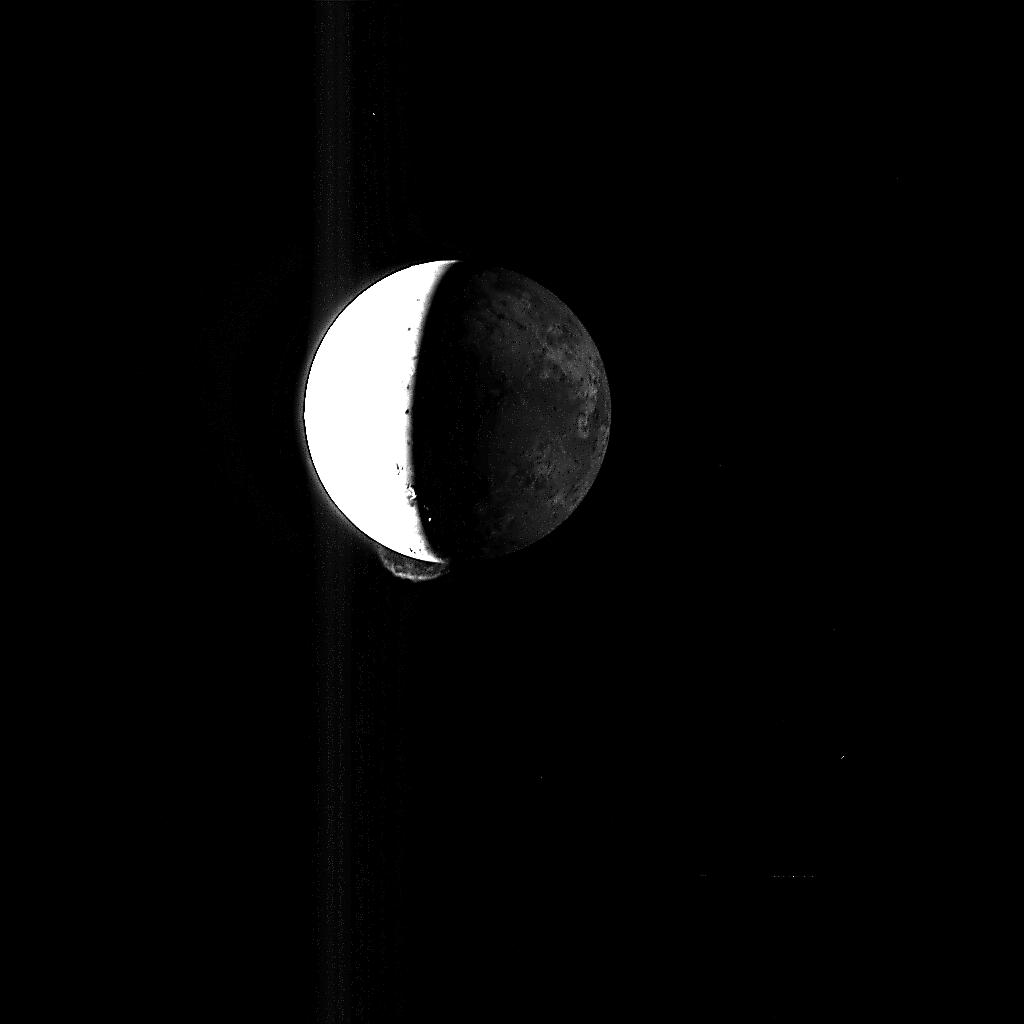plumes: (374, 542, 447, 580)
